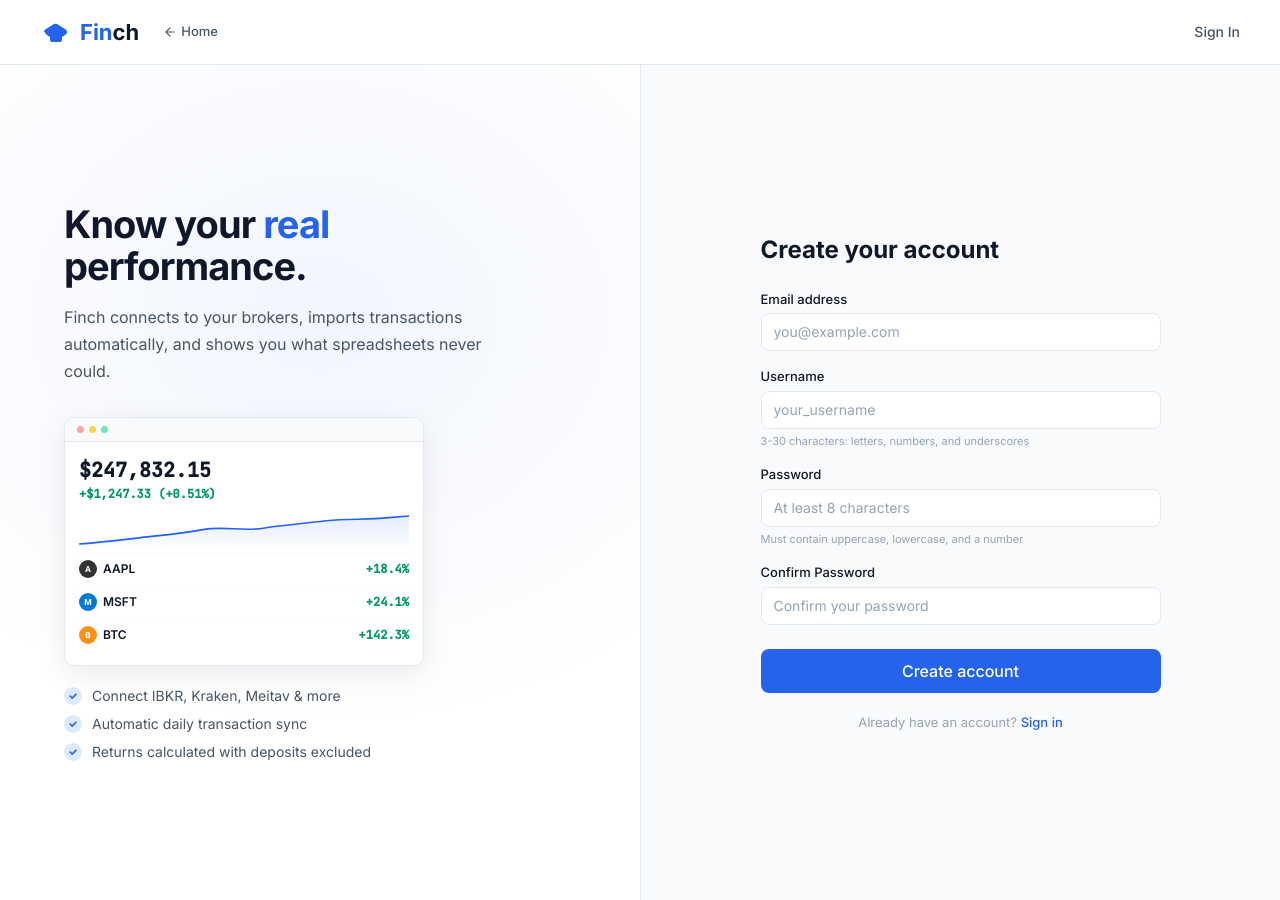
Scenario: Register › shows field-level error for password validation failure
Step 1. Type "a@b.com" into the field labelled "Email address" → (960, 332), box [760,313,1160,351]
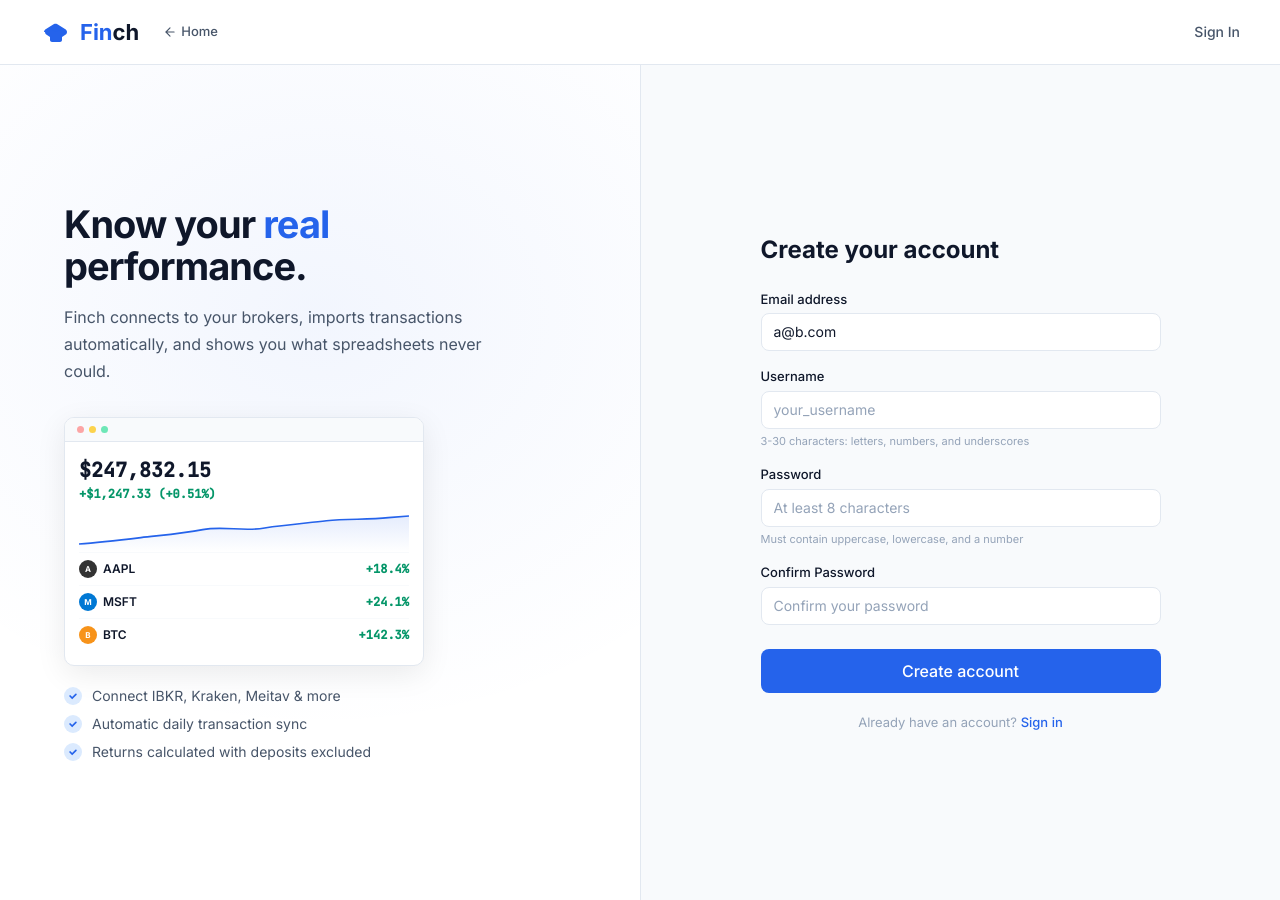
Step 2. Type "user1" into the field labelled "Username" → (960, 410), box [760,391,1160,429]
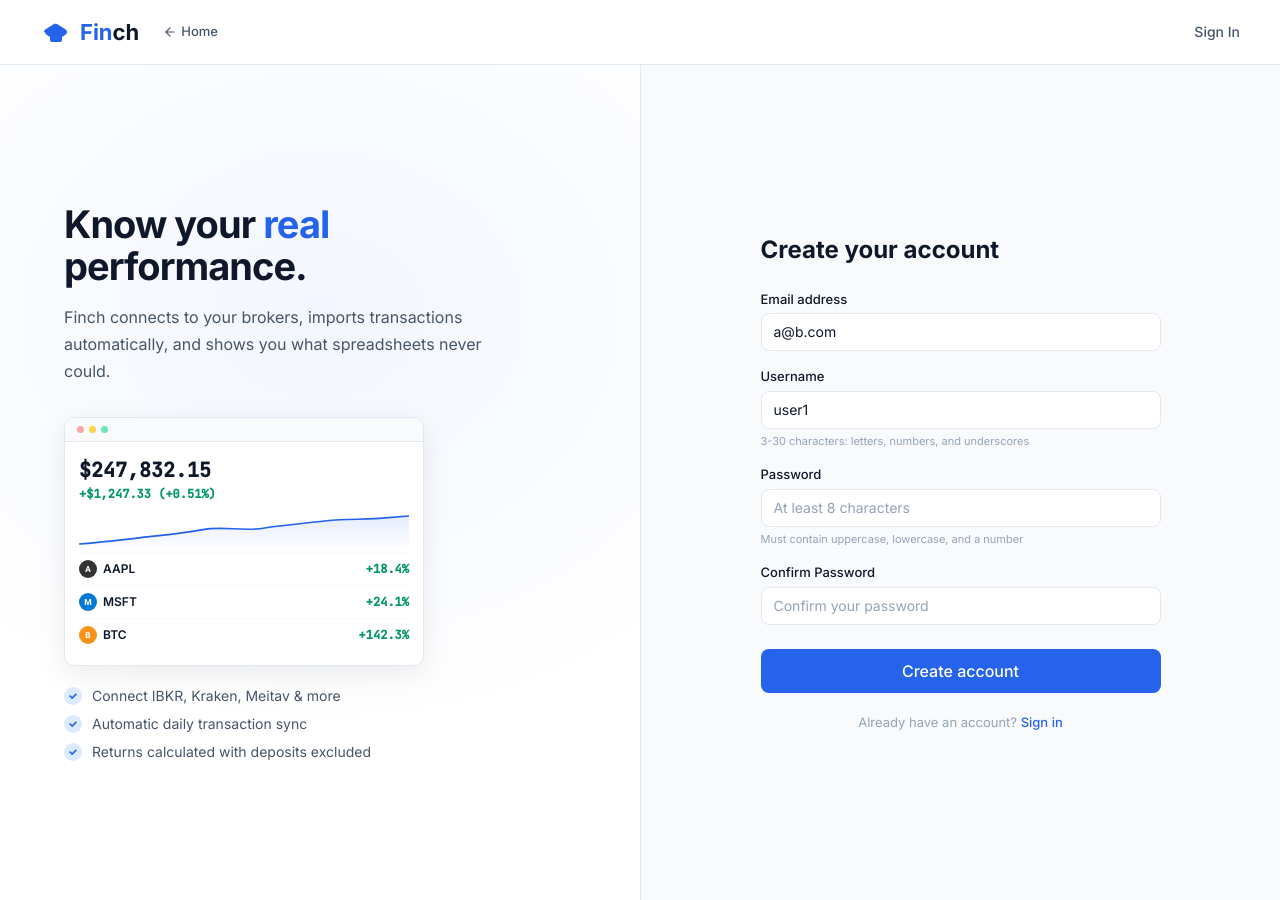
Step 3. Type "weakpass1" into the password field labelled "Password" → (960, 508), box [760,489,1160,527]
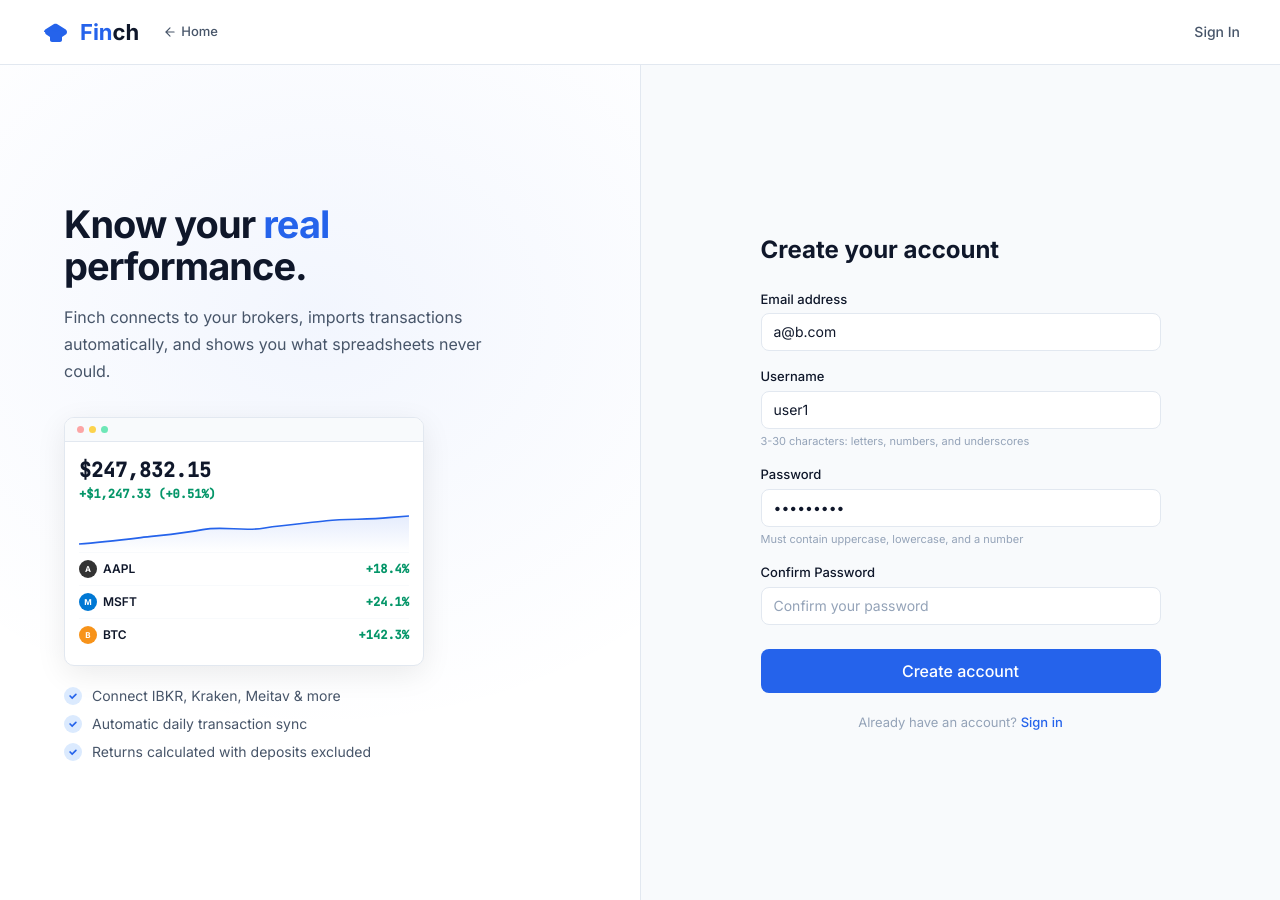
Step 4. Type "weakpass1" into the password field labelled "Confirm Password" → (960, 606), box [760,587,1160,625]
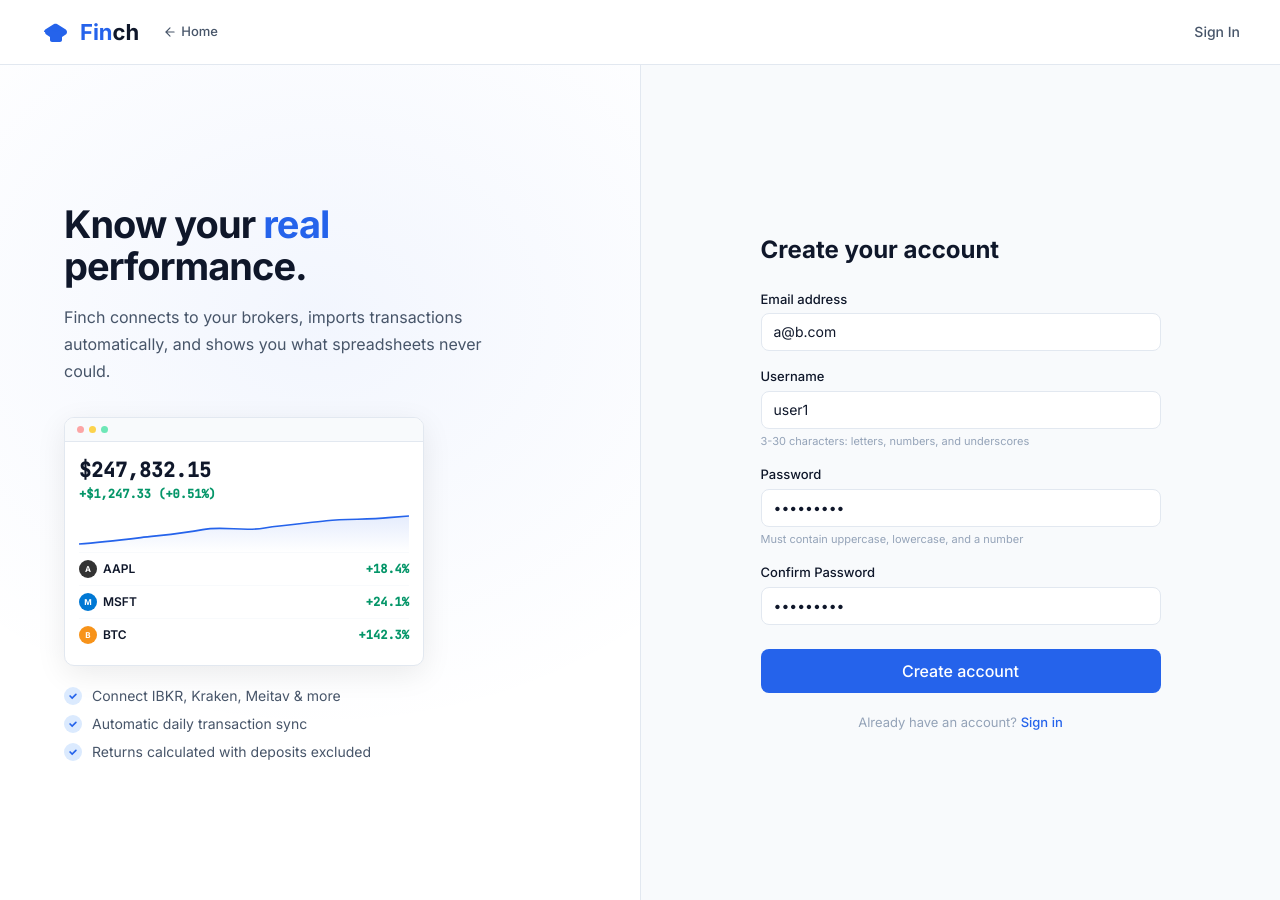
Step 5. Click the button "Create account" → (960, 671), box [760,649,1160,693]
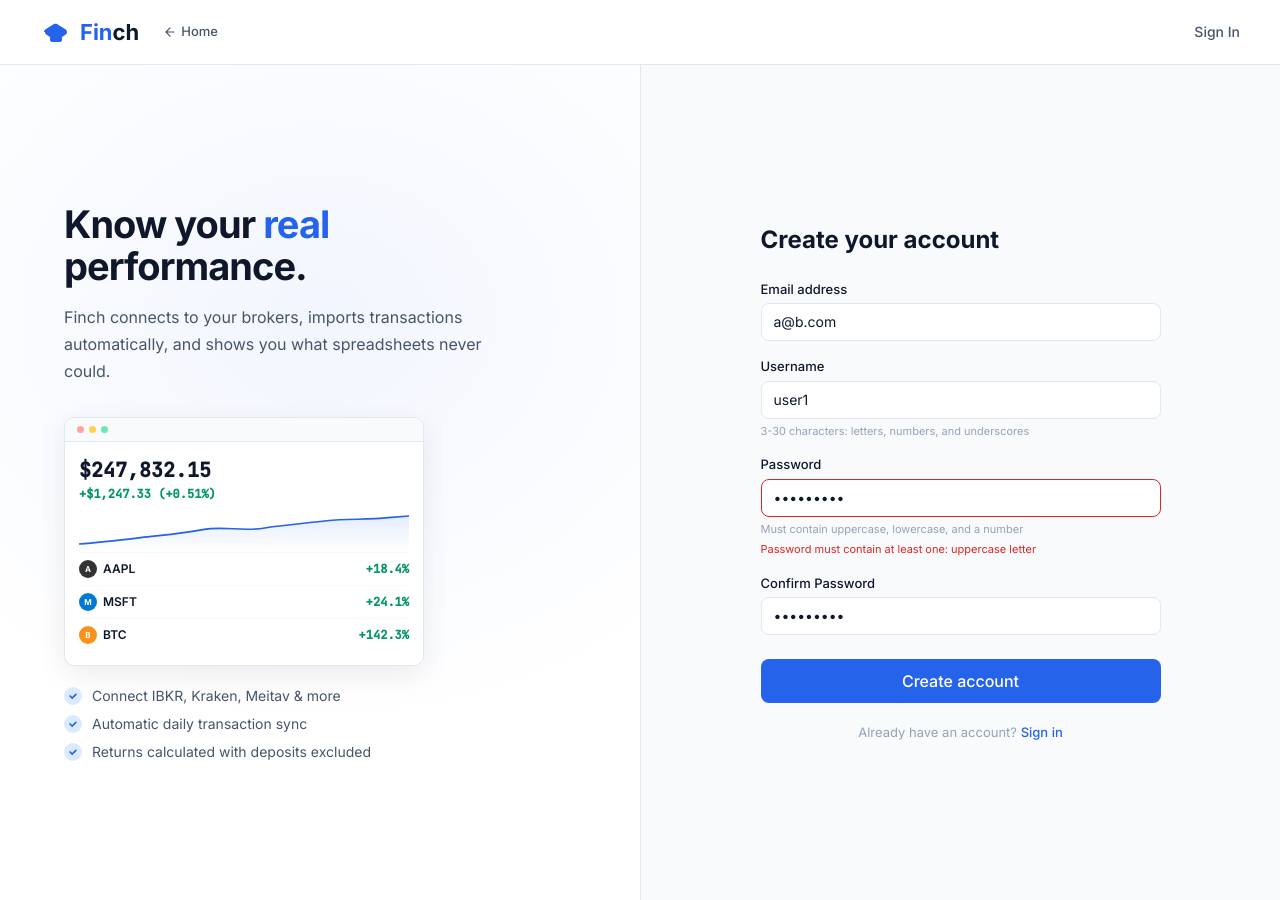
Result: the text "Password must contain at least one: uppercase letter" is shown at [760,542,1036,556]
